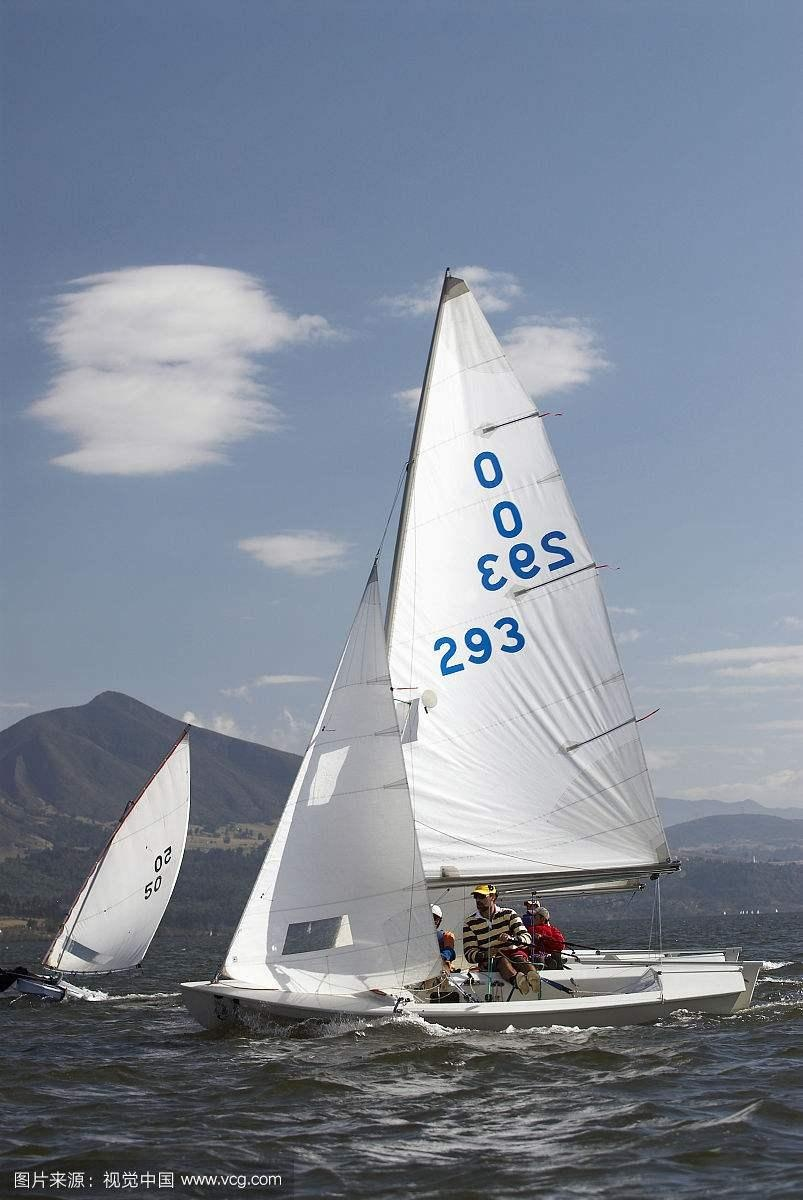fanchuan: (195, 275, 781, 1034), (10, 713, 198, 1000)
